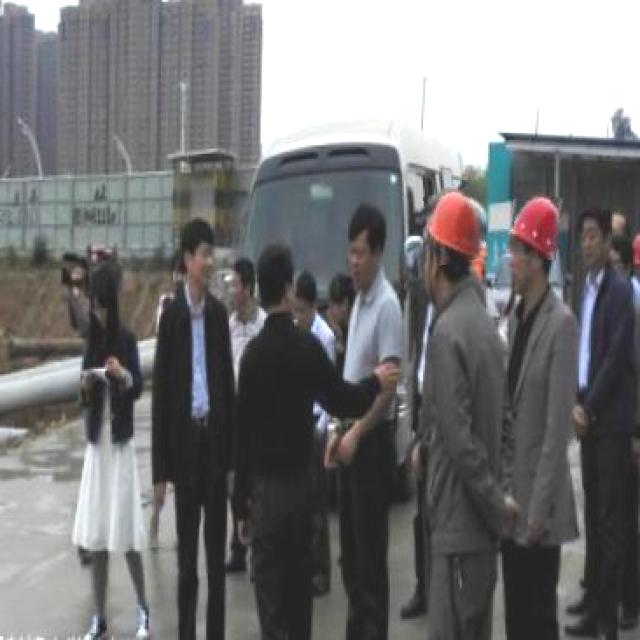helmet: (426, 189, 485, 264), (508, 192, 562, 258), (633, 225, 640, 269)
